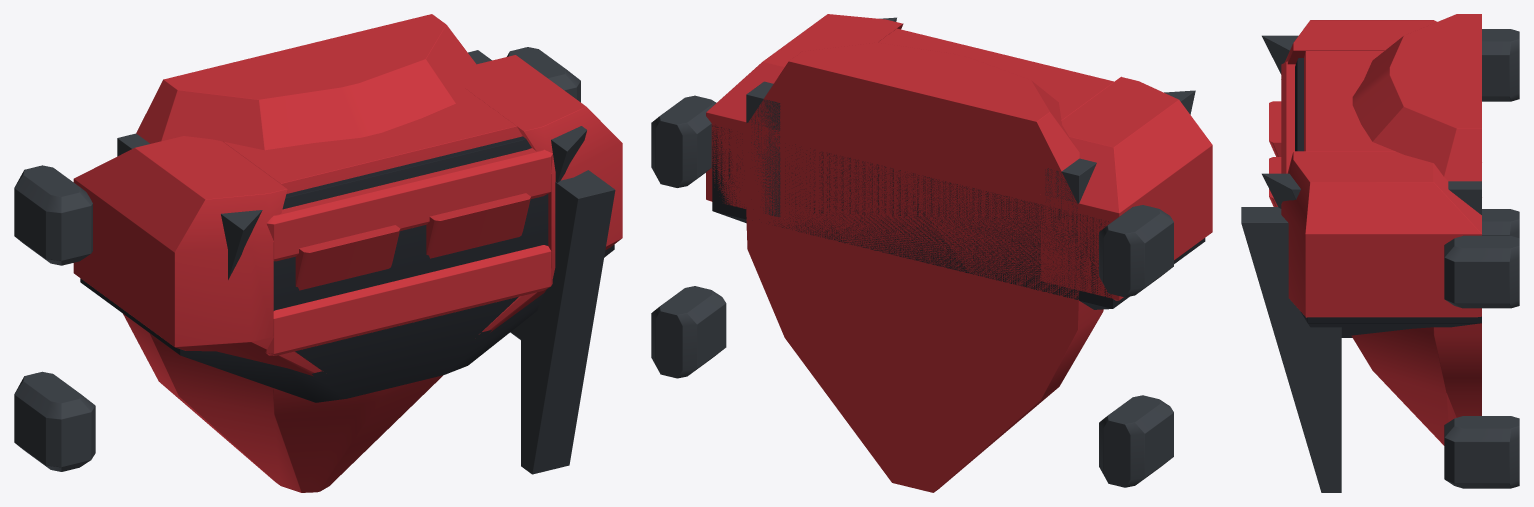
File: LowerArmFront_Set05_Afterburn.fbx
3 views of the same model, side by side, from view 1: azimuth 30°, elevation 25°; view 2: azimuth 150°, elevation 25°; view 3: azimuth 270°, elevation 25° (orthographic). The views are drawn at different scales.
Parts seen in each view (by area): view 1: LowerArmFront_Set05_Afterburn; view 2: LowerArmFront_Set05_Afterburn; view 3: LowerArmFront_Set05_Afterburn.
Part boxes in pixels (left/top/right/bottom): LowerArmFront_Set05_Afterburn: left=14, top=14, right=622, bottom=492; LowerArmFront_Set05_Afterburn: left=651, top=14, right=1212, bottom=492; LowerArmFront_Set05_Afterburn: left=1241, top=14, right=1519, bottom=492.
Bounding box in the file's own units: 0.43 × 0.33 × 0.222.
